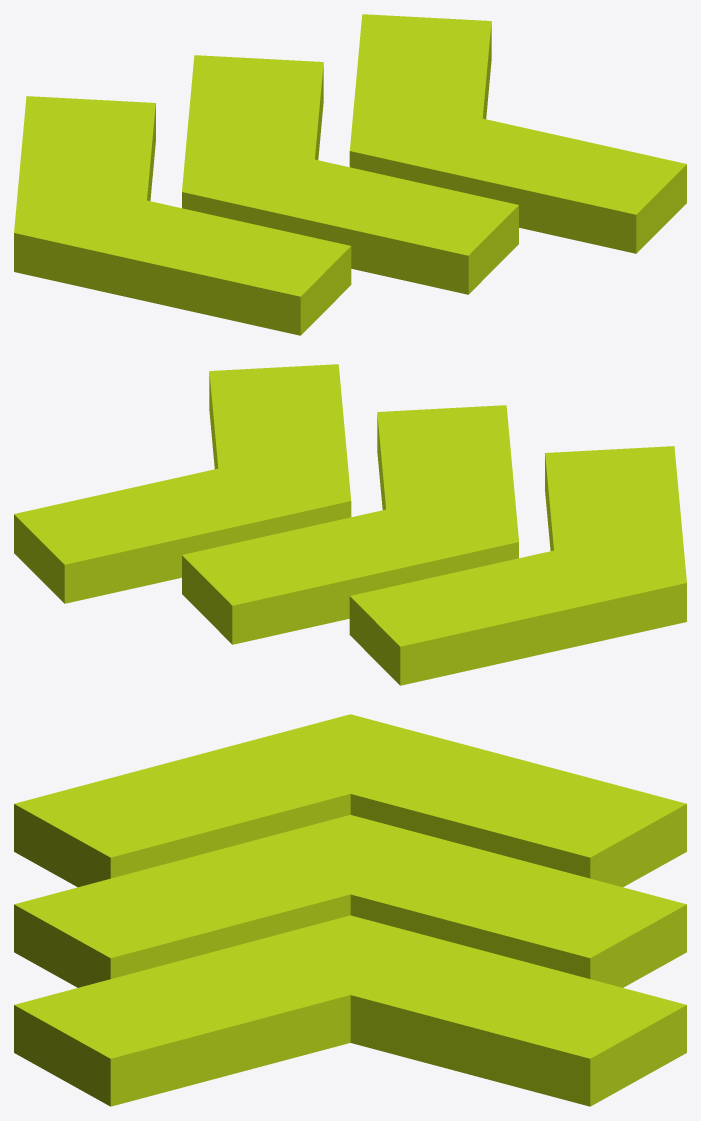
Rendered from SpeedBoost.fbx.
3 renders of one model, top to bottom at view 1: azimuth 30°, elevation 25°; view 2: azimuth 150°, elevation 25°; view 3: azimuth 270°, elevation 25°, orthographic. The views are drawn at different scales.
Visible parts, largest first — view 1: Cube_1, Cube, Cube_2; view 2: Cube_1, Cube, Cube_2; view 3: Cube, Cube_1, Cube_2.
Part boxes in pixels (bbox=[...]): Cube_1: bbox=[14, 96, 351, 335]; Cube: bbox=[349, 14, 686, 253]; Cube_2: bbox=[182, 55, 518, 294]; Cube_1: bbox=[349, 446, 686, 685]; Cube: bbox=[14, 364, 351, 603]; Cube_2: bbox=[182, 405, 518, 644]; Cube: bbox=[14, 915, 686, 1106]; Cube_1: bbox=[14, 714, 686, 887]; Cube_2: bbox=[14, 815, 686, 987].
Size of the model in its own units: 154 by 10 by 127.
